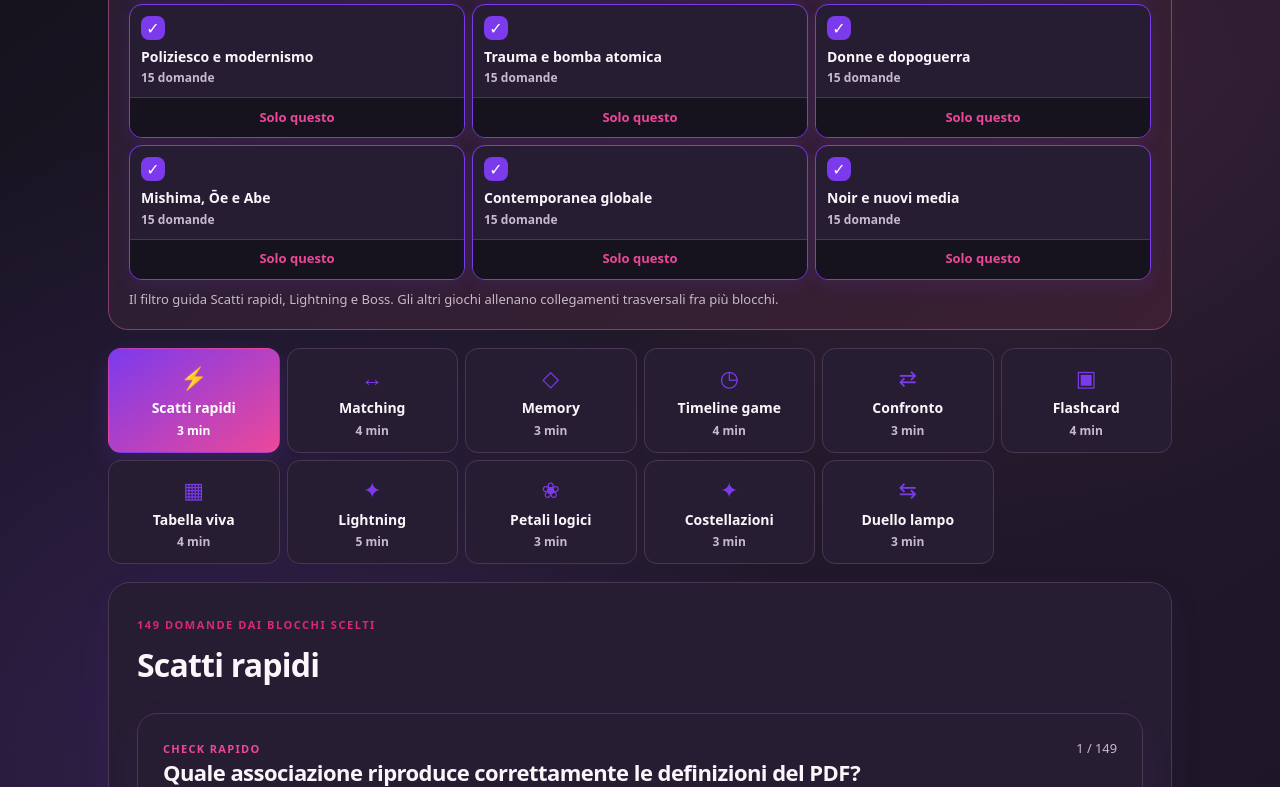
Test: palestra zero attrito › completa il matching anche con l’alternativa da tastiera o touch
(page scrolled)
Click the button "↔ Matching 4 min" at (372, 400), box x1=286 y1=348 x2=458 y2=453
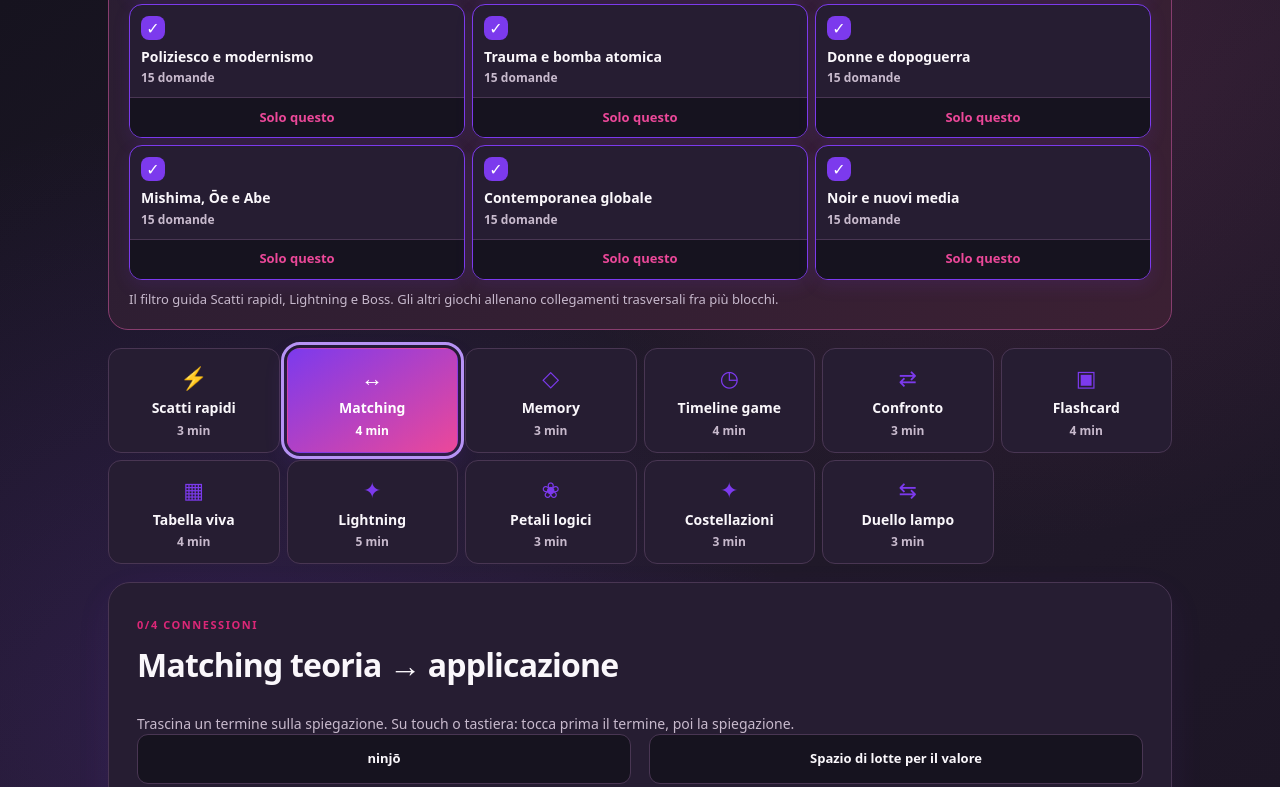
Click the button "ninjō" at (384, 759), box x1=137 y1=734 x2=631 y2=784
(page scrolled)
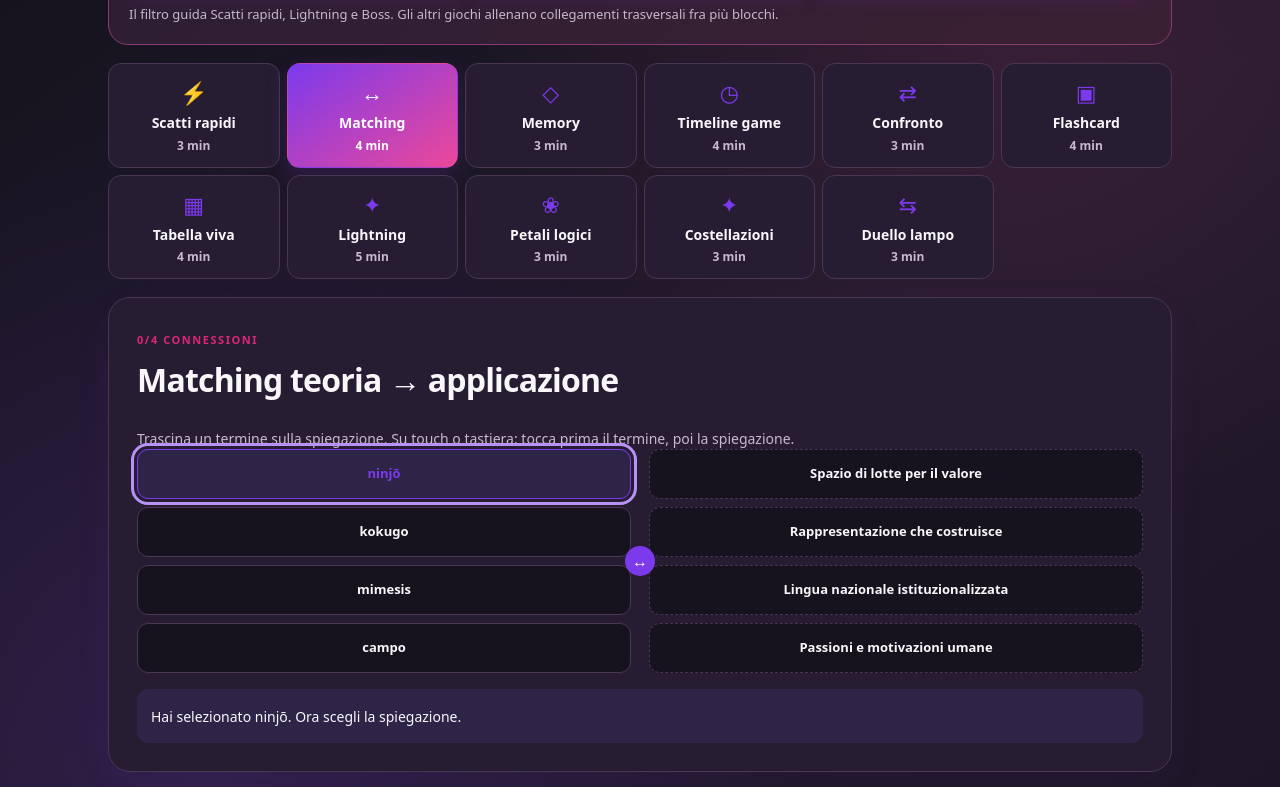
expect the button "ninjō" is pressed: met, box x1=137 y1=449 x2=631 y2=499
Click the button "Passioni e motivazioni umane" at (896, 648), box x1=649 y1=623 x2=1143 y2=673
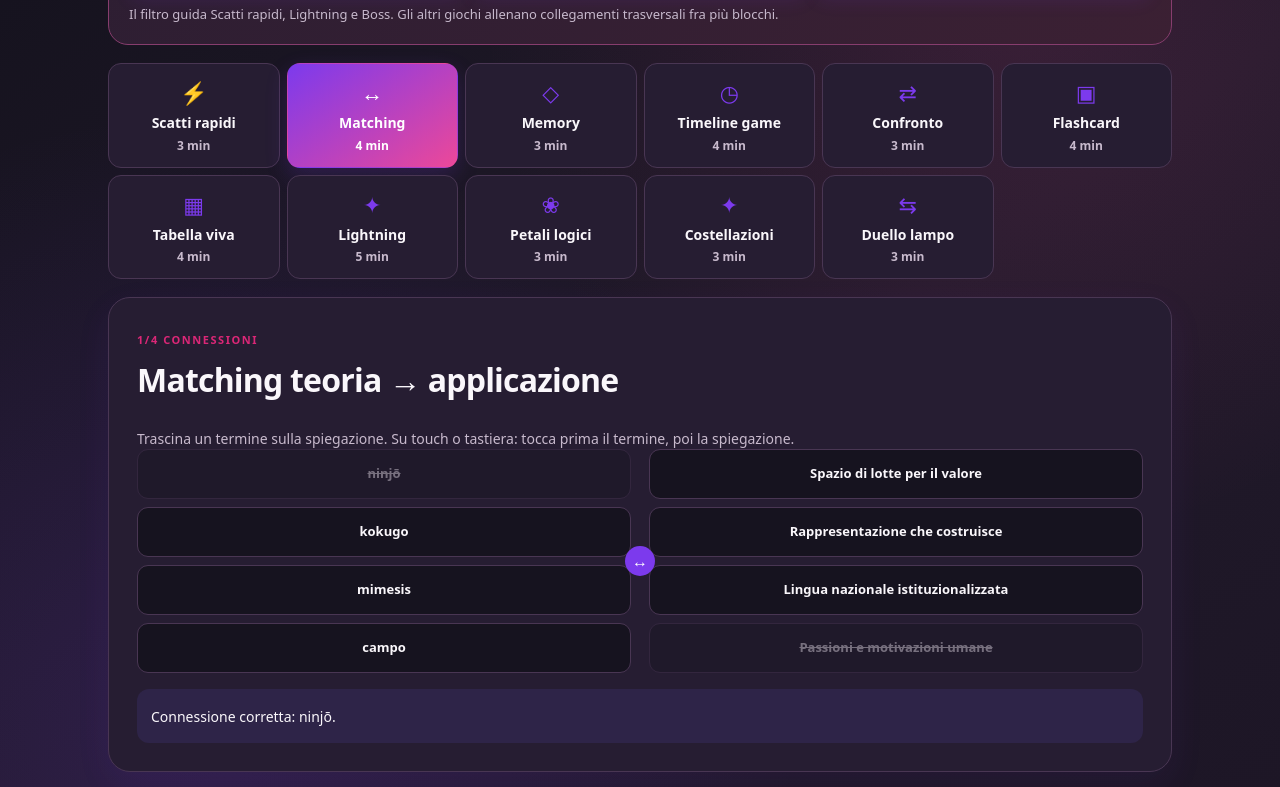
expect the text "Connessione corretta: ninjō." is shown: met, box x1=151 y1=706 x2=336 y2=727
expect the button "ninjō" is disabled: met, box x1=137 y1=449 x2=631 y2=499
